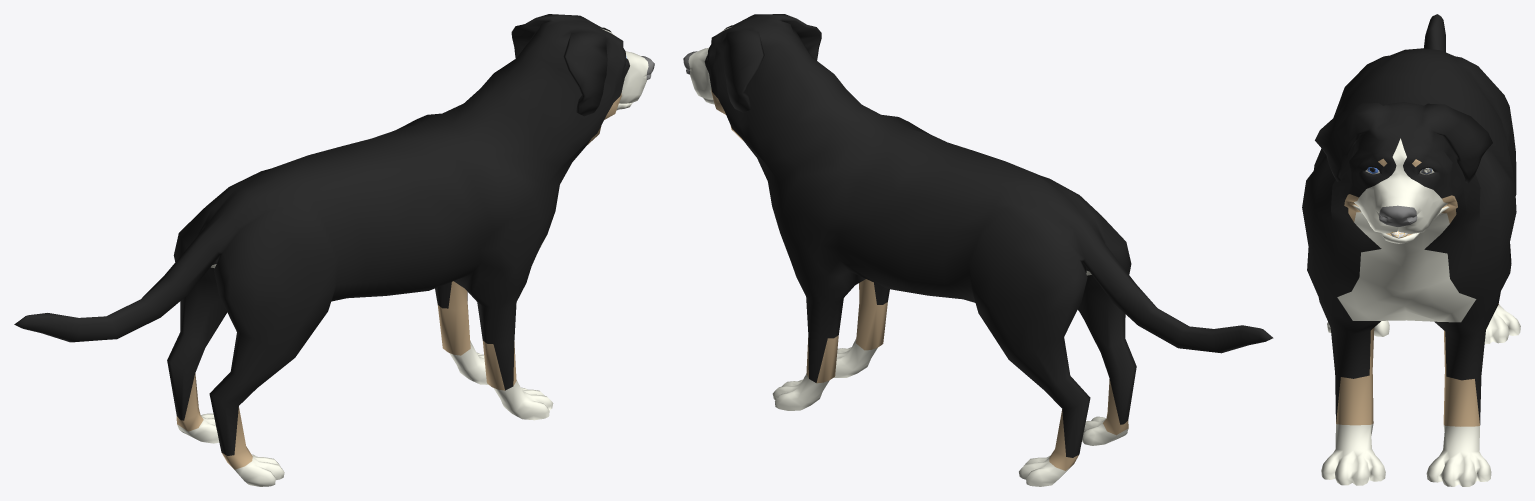
File: Kopek.fbx
3 renders of one model, left to right at view 1: azimuth 30°, elevation 25°; view 2: azimuth 150°, elevation 25°; view 3: azimuth 270°, elevation 25°, orthographic. The views are drawn at different scales.
Parts seen in each view (by area): view 1: Component1; view 2: Component1; view 3: Component1.
Part boxes in pixels (box(x1,y1,x2,y2)): Component1: box(14, 14, 654, 486); Component1: box(683, 14, 1273, 486); Component1: box(1302, 14, 1520, 486).
Size of the model in its own units: 102 by 56.15 by 27.4.
